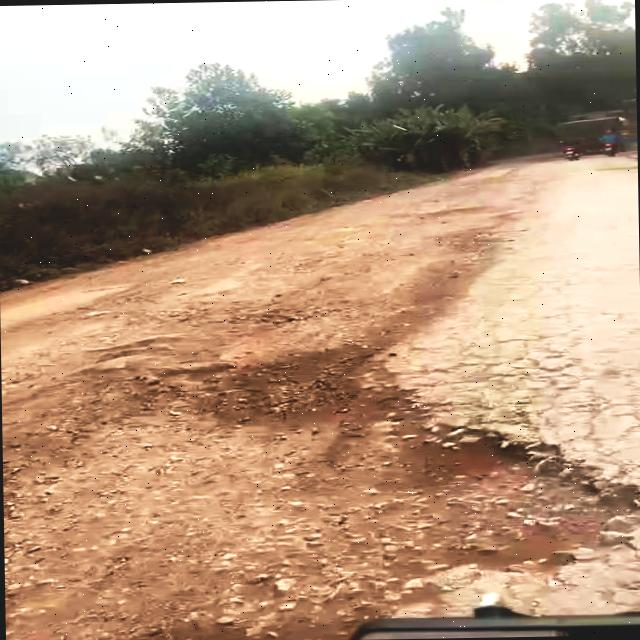pothole: (203, 355, 640, 592)
